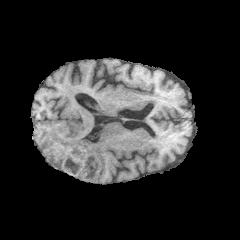glioma: (46, 130, 103, 180)
